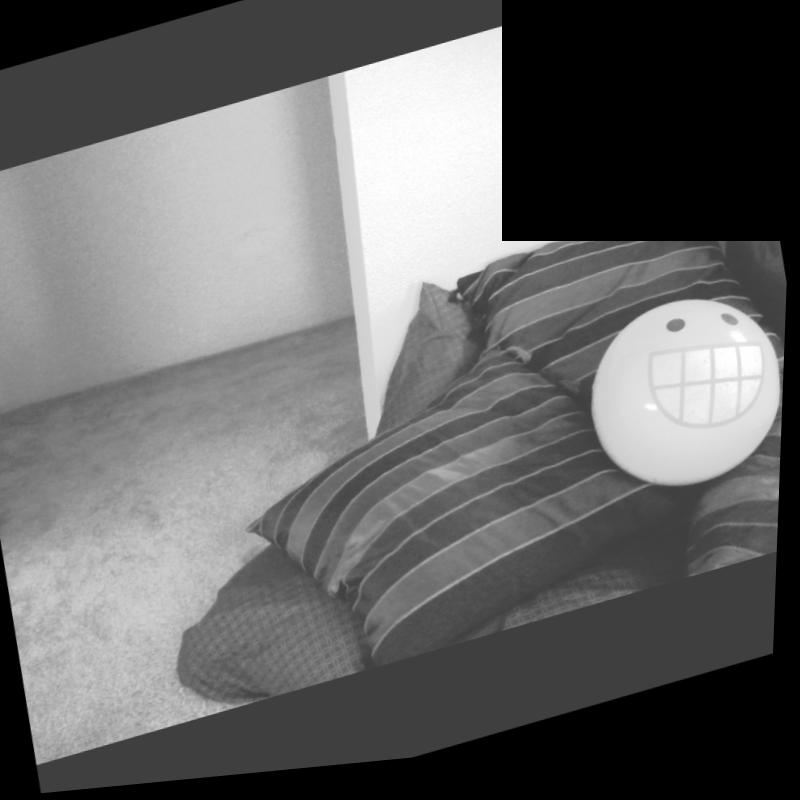pillow: (223, 313, 712, 706), (454, 187, 793, 466), (661, 375, 787, 591)
